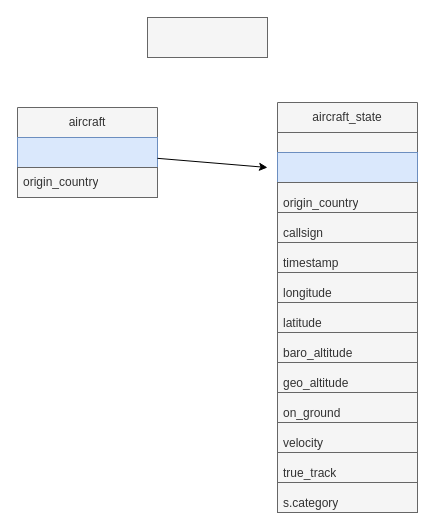
Image size: 435x530. Some labels were removed from this diagram. Each missing label, with the centre of its shape:
"Database Schema" belongs at (x=207, y=37).
"icao24 (FOREIGN KEY)" belongs at (x=347, y=167).
"icao24 (PRIMARY KEY)" belongs at (x=87, y=152).
"id (PRIMARY KEY)" belongs at (x=347, y=142).
